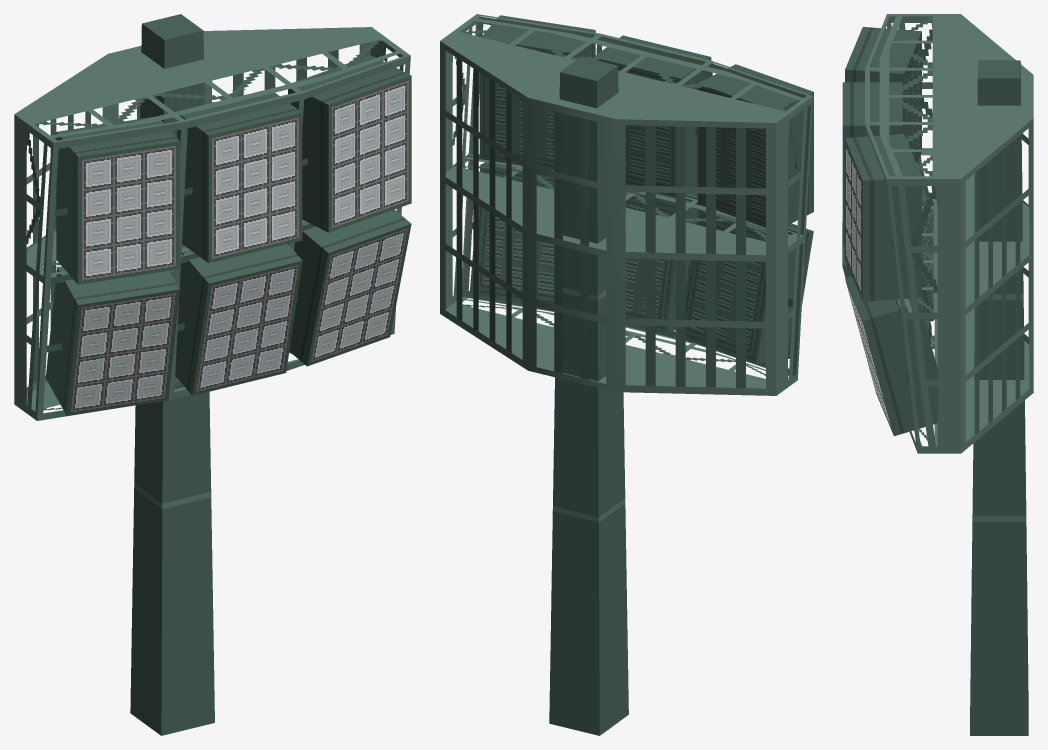
Rendered from 028f_Stadium_Lights.glb.
3 views of the same model, side by side, from view 1: azimuth 30°, elevation 25°; view 2: azimuth 150°, elevation 25°; view 3: azimuth 270°, elevation 25° (orthographic). The views are drawn at different scales.
Parts seen in each view (by area): view 1: part_0; view 2: part_0; view 3: part_0.
Part boxes in pixels (x1=…): part_0: x1=14, y1=14, x2=411, y2=735; part_0: x1=440, y1=14, x2=813, y2=735; part_0: x1=842, y1=14, x2=1033, y2=735.
Bounding box in the file's own units: 20.89 × 38.59 × 10.24.
Materials: 1 (1 with a texture image).
